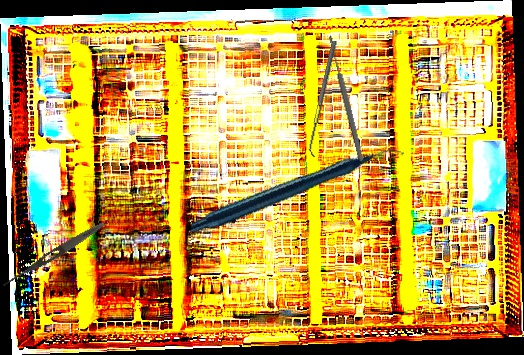Dressing Forceps: (0, 219, 107, 291)
Handpiece: (190, 104, 404, 280)
Spatula Surgical: (305, 40, 342, 158)
Surgical Spoon: (326, 34, 366, 163)
